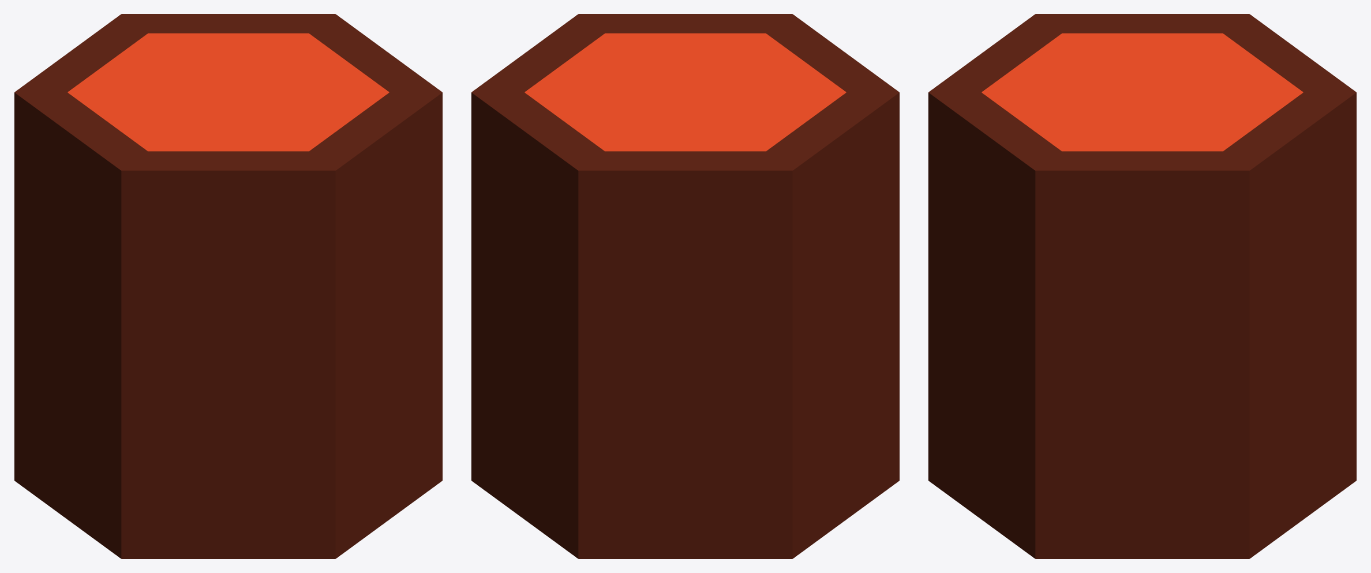
The model's file is trunk_chopped.obj.
3 renders of one model, left to right at view 1: azimuth 30°, elevation 25°; view 2: azimuth 150°, elevation 25°; view 3: azimuth 270°, elevation 25°, orthographic.
Parts seen in each view (by area): view 1: trunk_chopped_Cylinder.008; view 2: trunk_chopped_Cylinder.008; view 3: trunk_chopped_Cylinder.008.
Part boxes in pixels (x1,y1,x2,y2): trunk_chopped_Cylinder.008: (14, 14, 442, 558); trunk_chopped_Cylinder.008: (471, 14, 899, 558); trunk_chopped_Cylinder.008: (928, 14, 1356, 558).
Bounding box in the file's own units: 1.73 × 2 × 2.
